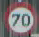Speed limit: (2, 0, 37, 35)
